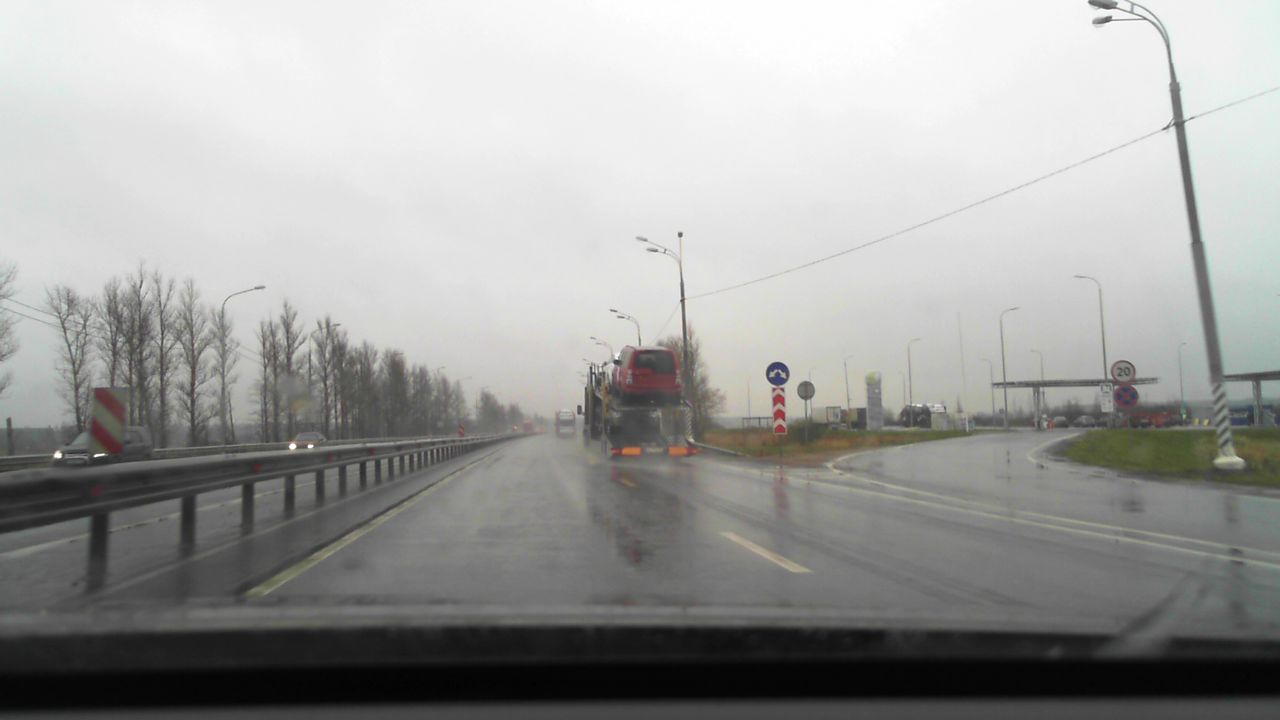No Parking: (1113, 384, 1138, 407)
